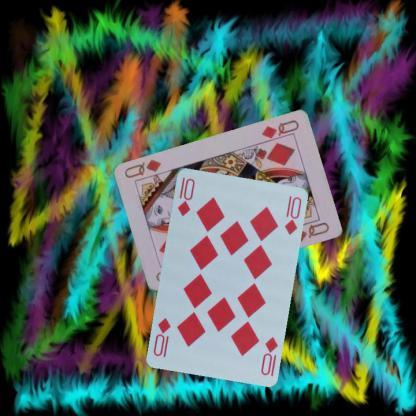10d: (174, 174, 196, 218), (258, 334, 280, 376)
Qd: (258, 118, 300, 146)
